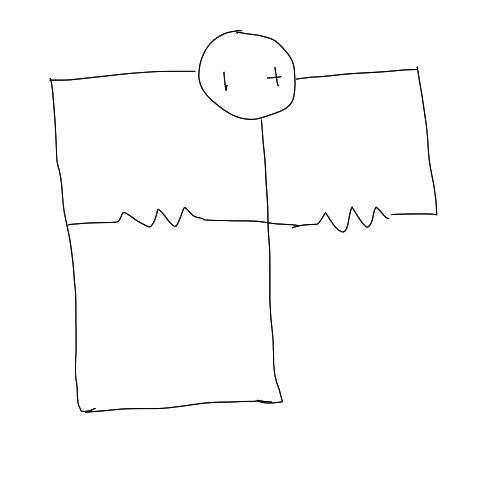dcvs: (193, 27, 295, 121)
res: (108, 200, 215, 235), (302, 206, 402, 232)
